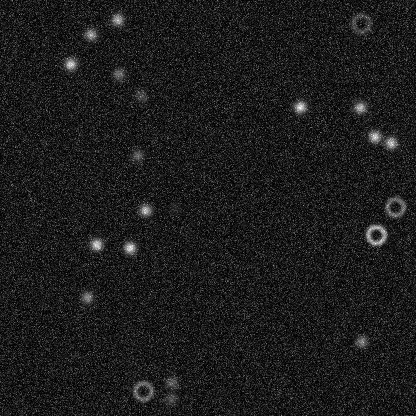Ring: (383, 194, 407, 218), (349, 11, 373, 35), (130, 378, 154, 402), (363, 222, 387, 246)
Spot: (167, 199, 183, 215), (353, 333, 369, 349), (109, 11, 125, 27), (129, 147, 145, 163), (163, 374, 179, 390), (162, 390, 178, 406), (351, 99, 367, 115), (82, 26, 98, 42), (366, 128, 382, 144), (121, 239, 137, 255), (79, 289, 95, 305), (88, 236, 104, 252), (291, 98, 307, 114), (382, 134, 398, 150), (62, 55, 78, 71), (133, 87, 149, 103), (110, 65, 126, 81), (137, 202, 153, 218)
